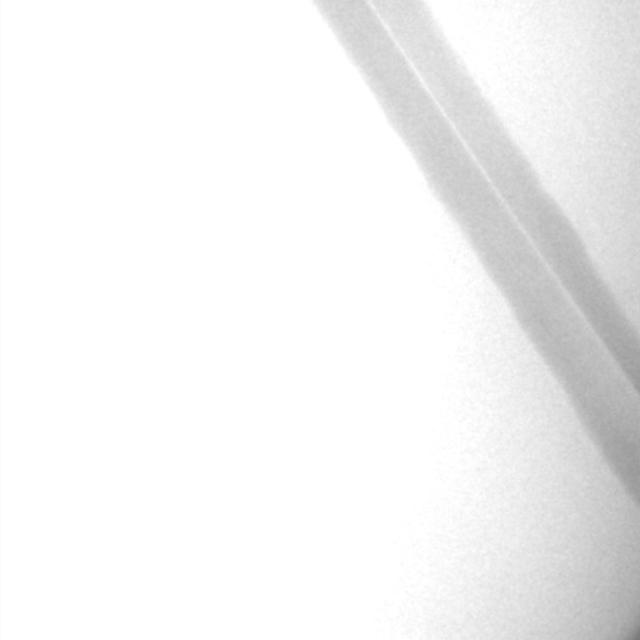broken arc: (369, 4, 637, 389)
